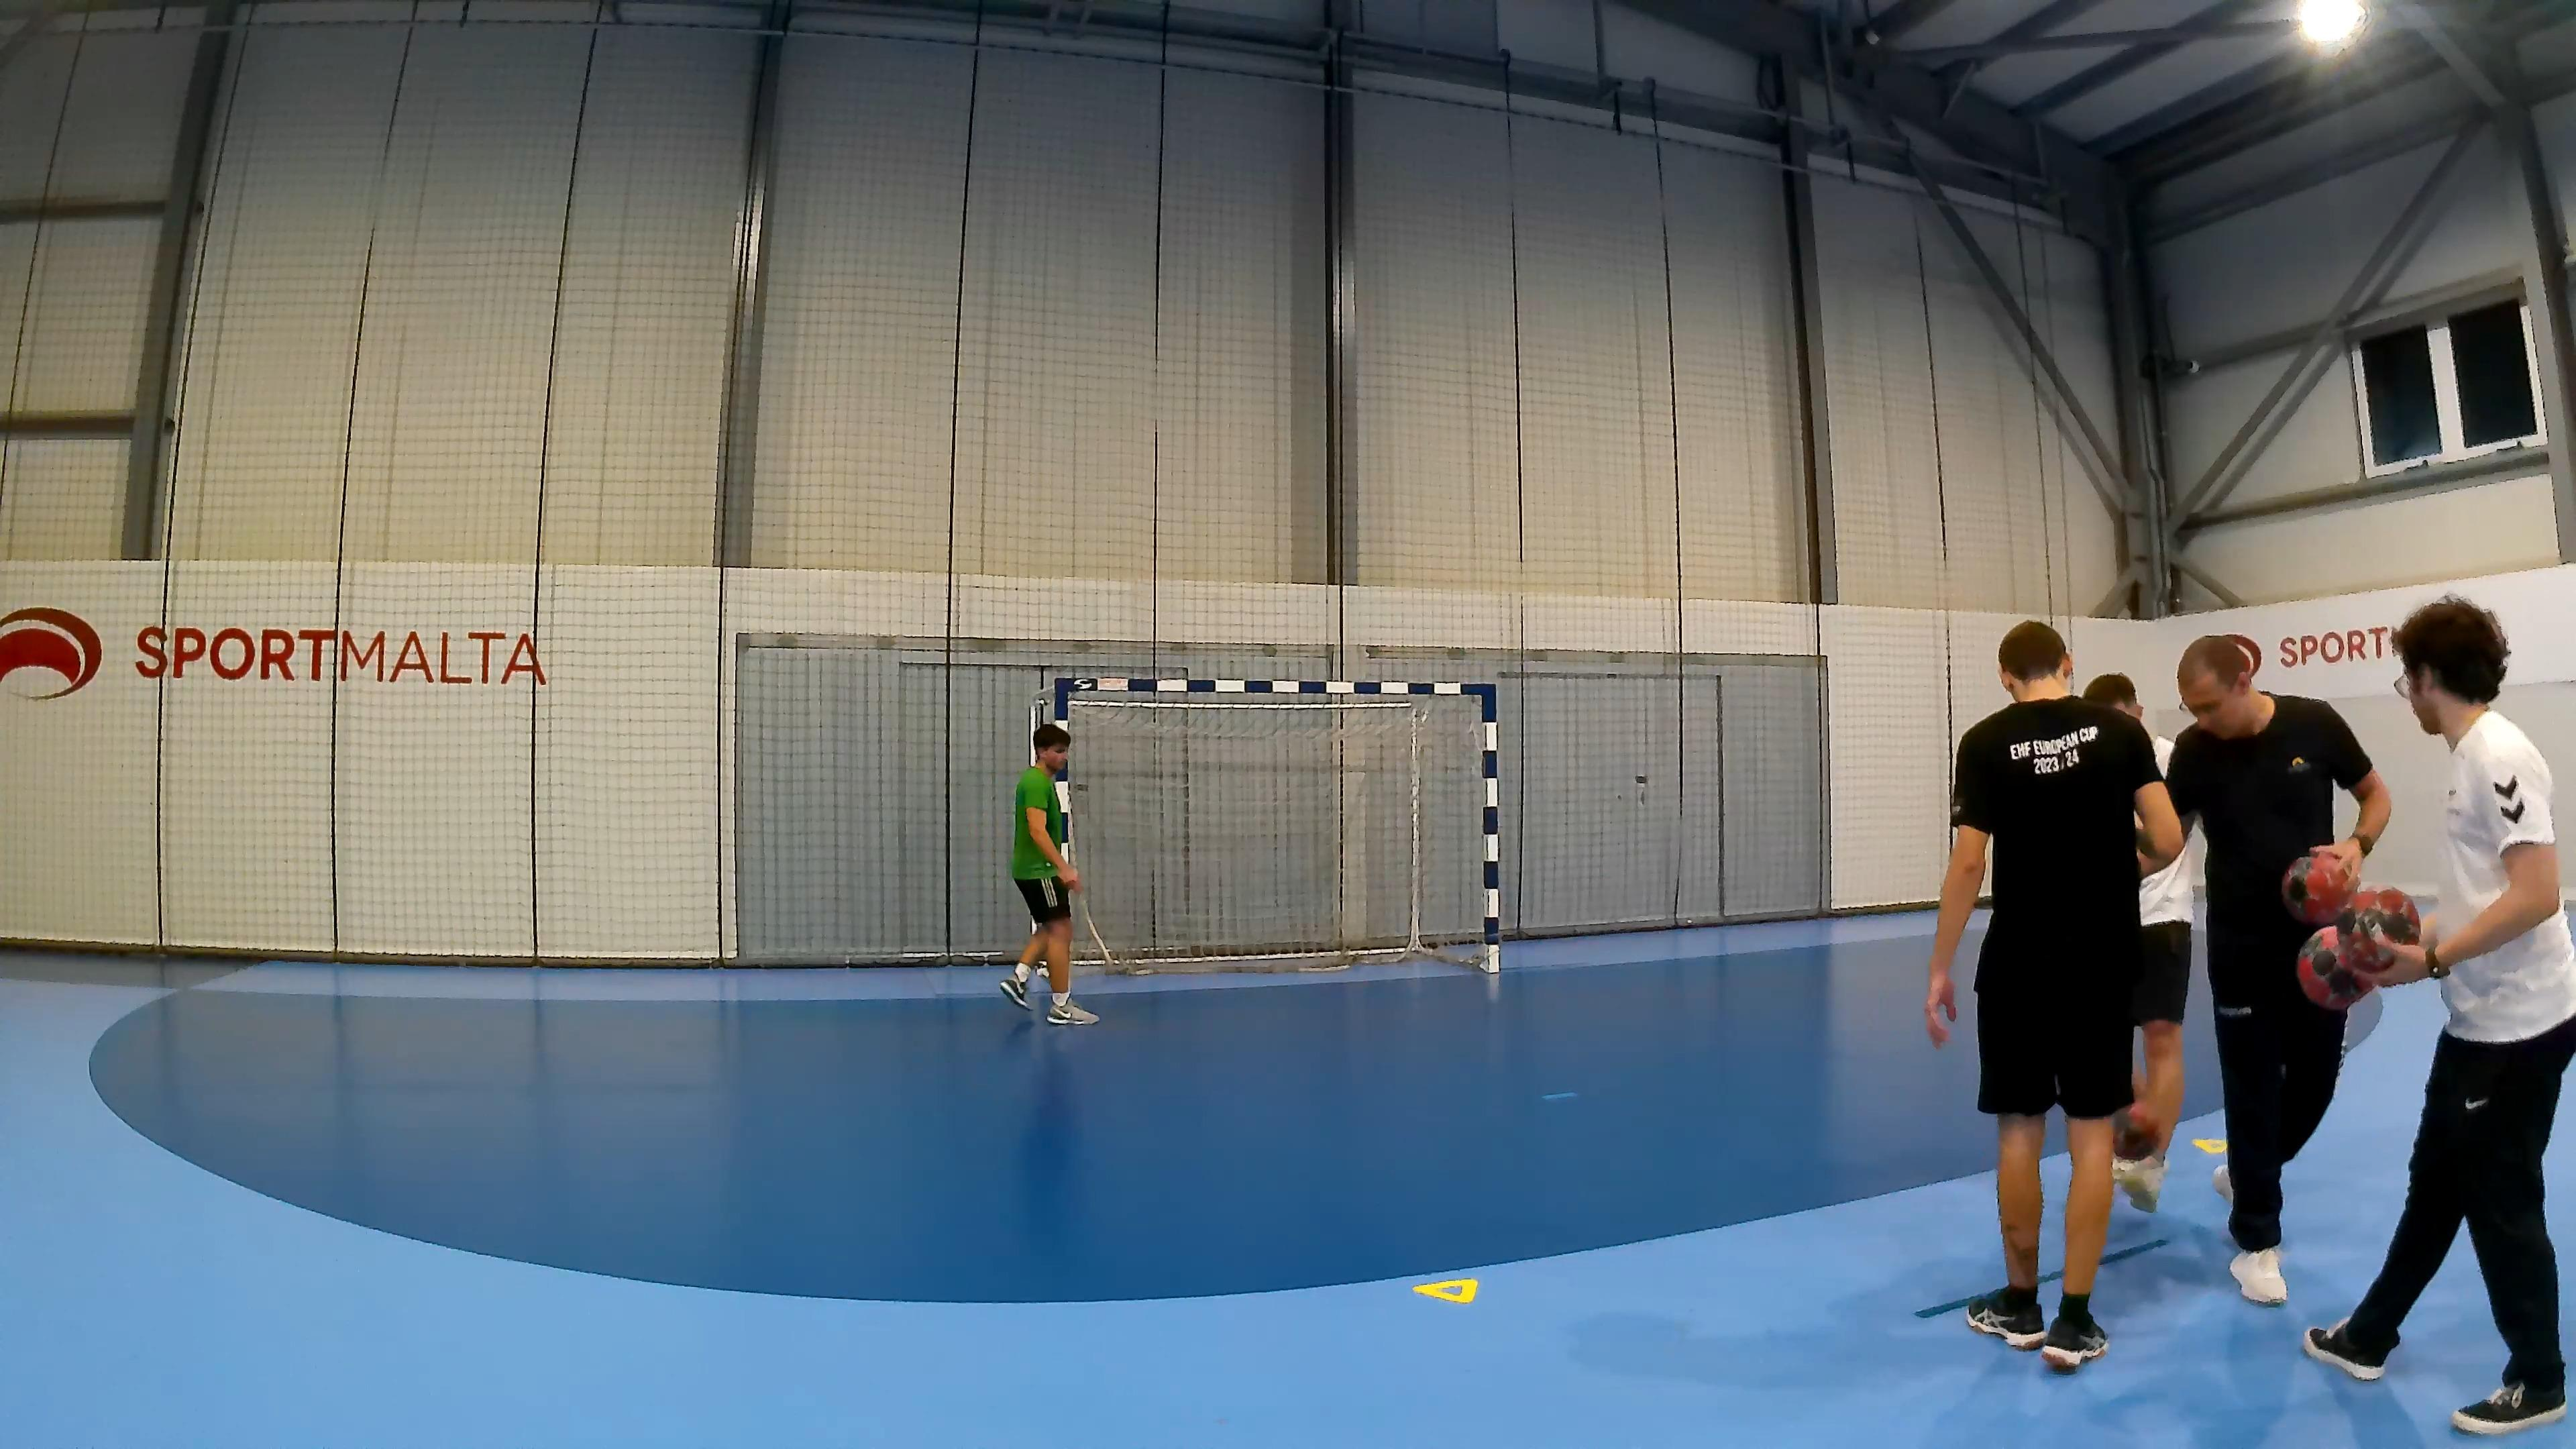handball: (2281, 849, 2357, 924)
